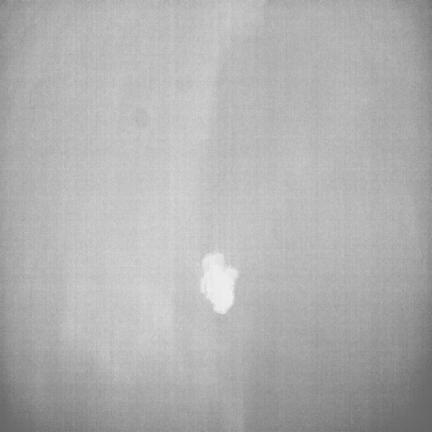flukeprints: (200, 253, 238, 314)
